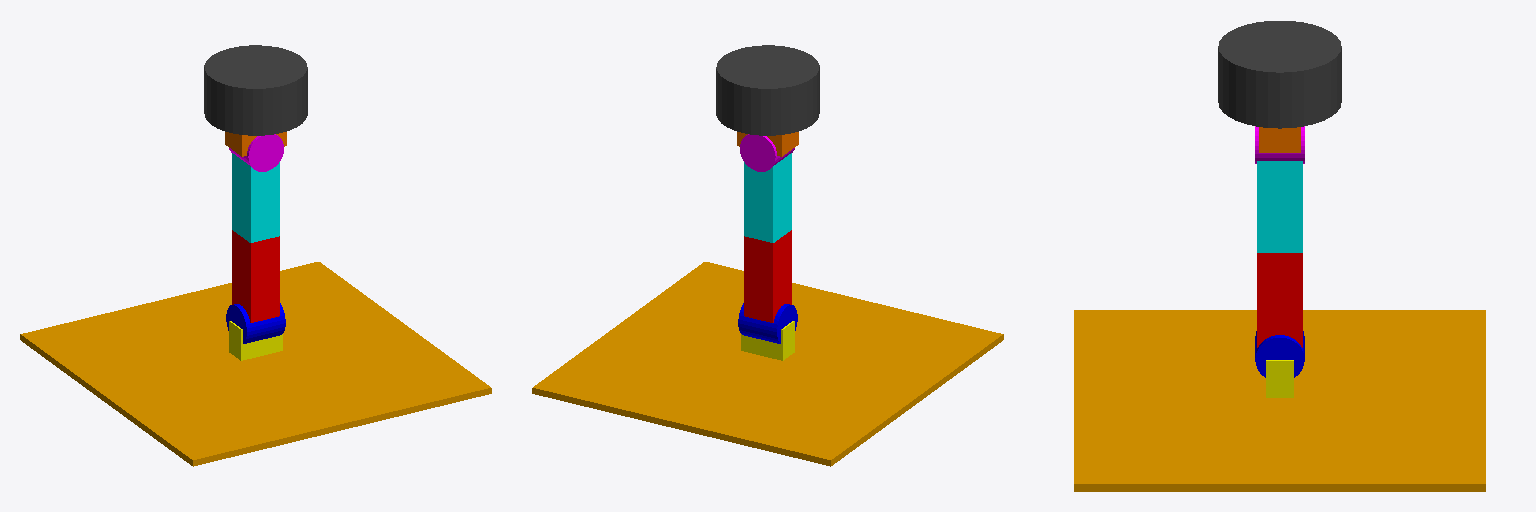
URDF robot description (6dof_huboq):
<?xml version="1.0" ?>
<!-- =================================================================================== -->
<!-- |    This document was autogenerated by xacro from ./6dof_huboq_simple.xacro      | -->
<!-- |    EDITING THIS FILE BY HAND IS NOT RECOMMENDED                                 | -->
<!-- =================================================================================== -->
<robot name="6dof_huboq" xmlns:xacro="http://ros.org/wiki/xacro">
  <!-- Include materials -->
  <material name="Black">
    <color rgba="0.0 0.0 0.0 1.0"/>
  </material>
  <material name="Red">
    <color rgba="0.8 0.0 0.0 1.0"/>
  </material>
  <material name="White">
    <color rgba="1.0 1.0 1.0 1.0"/>
  </material>
  <!-- BOTTOM FIXED LINK 
This link is the base of the arm in which arm is placed 
-->
  <!-- ///////////////////////////////////////////////////////////////////////////////////////////////////////////////////// -->
  <joint name="bottom_joint" type="fixed">
    <origin rpy="0 0 0" xyz="0 0 0"/>
    <parent link="base_link"/>
    <child link="bottom_link"/>
  </joint>
  <link name="bottom_link">
    <visual>
      <origin rpy="0 0 0" xyz=" 0 0 -0.04"/>
      <geometry>
        <box size="1 1 0.02"/>
      </geometry>
      <material name="Brown"/>
    </visual>
    <collision>
      <origin rpy="0 0 0" xyz=" 0 0 -0.04"/>
      <geometry>
        <box size="1 1 0.02"/>
      </geometry>
    </collision>
    &gt;
  
  </link>
  <gazebo reference="bottom_link">
    <material>Gazebo/White</material>
  </gazebo>
  <!-- ///////////////////////////////////////////////////////////////////////////////////////////////////////////////////// -->
  <link name="base_link">
    <visual>
      <geometry>
        <box size="0.14 0.07 0.1"/>
      </geometry>
      <origin rpy="0 0 0" xyz="0 0 0.05"/>
      <material name="yellow">
        <color rgba="1 1 0 1"/>
      </material>
    </visual>
    <collision>
      <geometry>
        <box size="0.14 0.07 0.1"/>
      </geometry>
      <origin rpy="0 0 0" xyz="0 0 0.05"/>
    </collision>
    <inertial>
      <mass value="1"/>
      <inertia ixx="0.5" ixy="0.0" ixz="0.0" iyy="0.5" iyz="0.0" izz="0.5"/>
    </inertial>
  </link>
  <joint name="HR_joint" type="revolute">
    <parent link="base_link"/>
    <child link="HR_link"/>
    <origin xyz="0 0 0.1"/>
    <axis xyz="1 0 0"/>
    <limit effort="300" lower="-0.698131700798" upper="0.698131700798" velocity="0.1"/>
    <dynamics damping="50" friction="1"/>
  </joint>
  <link name="HR_link">
    <visual>
      <geometry>
        <cylinder length="0.13" radius="0.06"/>
      </geometry>
      <origin rpy="0 1.570795 0" xyz="0 0 0"/>
      <material name="blue">
        <color rgba="0 0 1 1"/>
      </material>
    </visual>
    <collision>
      <geometry>
        <cylinder length="0.13" radius="0.06"/>
      </geometry>
      <origin rpy="0 1.570795 0" xyz="0 0 0"/>
    </collision>
    <inertial>
      <mass value="1"/>
      <inertia ixx="0.5" ixy="0.0" ixz="0.0" iyy="0.5" iyz="0.0" izz="0.5"/>
    </inertial>
  </link>
  <joint name="HP_joint" type="revolute">
    <parent link="HR_link"/>
    <child link="HP_link"/>
    <origin xyz="0 0 0"/>
    <axis xyz="0 1 0"/>
    <limit effort="300" lower="-1.3962634016" upper="1.3962634016" velocity="0.1"/>
    <dynamics damping="50" friction="1"/>
  </joint>
  <link name="HP_link">
    <visual>
      <geometry>
        <box size="0.1 0.11 0.28"/>
      </geometry>
      <origin rpy="0 0 0" xyz="0 0 0.14"/>
      <material name="red">
        <color rgba="1 0 0 1"/>
      </material>
    </visual>
    <collision>
      <geometry>
        <box size="0.1 0.11 0.28"/>
      </geometry>
      <origin rpy="0 0 0" xyz="0 0 0.14"/>
    </collision>
    <inertial>
      <mass value="1"/>
      <inertia ixx="0.5" ixy="0.0" ixz="0.0" iyy="0.5" iyz="0.0" izz="0.5"/>
    </inertial>
  </link>
  <joint name="Knee_joint" type="revolute">
    <parent link="HP_link"/>
    <child link="Knee_link"/>
    <origin xyz="0 0 0.28"/>
    <axis xyz="0 1 0"/>
    <limit effort="300" lower="-2.79252680319" upper="1.3962634016" velocity="0.1"/>
    <dynamics damping="50" friction="1"/>
  </joint>
  <link name="Knee_link">
    <visual>
      <geometry>
        <box size="0.1 0.11 0.28"/>
      </geometry>
      <origin rpy="0 0 0" xyz="0 0 0.14"/>
      <material name="cyon">
        <color rgba="0 1 1 1"/>
      </material>
    </visual>
    <collision>
      <geometry>
        <box size="0.1 0.11 0.28"/>
      </geometry>
      <origin rpy="0 0 0" xyz="0 0 0.14"/>
    </collision>
    <inertial>
      <mass value="1"/>
      <inertia ixx="0.5" ixy="0.0" ixz="0.0" iyy="0.5" iyz="0.0" izz="0.5"/>
    </inertial>
  </link>
  <joint name="AP_joint" type="revolute">
    <parent link="Knee_link"/>
    <child link="AP_link"/>
    <origin xyz="0 0 0.28"/>
    <axis xyz="0 1 0"/>
    <limit effort="300" lower="-1.57079632679" upper="1.57079632679" velocity="0.1"/>
    <dynamics damping="50" friction="1"/>
  </joint>
  <link name="AP_link">
    <visual>
      <geometry>
        <cylinder length="0.12" radius="0.06"/>
      </geometry>
      <origin rpy="1.570795 0 0" xyz="0 0 0"/>
      <material name="Magenta">
        <color rgba="1 0 1 1"/>
      </material>
    </visual>
    <collision>
      <geometry>
        <cylinder length="0.12" radius="0.06"/>
      </geometry>
      <origin rpy="1.570795 0 0" xyz="0 0 0"/>
    </collision>
    <inertial>
      <mass value="1"/>
      <inertia ixx="0.5" ixy="0.0" ixz="0.0" iyy="0.5" iyz="0.0" izz="0.5"/>
    </inertial>
  </link>
  <joint name="AR_joint" type="revolute">
    <parent link="AP_link"/>
    <child link="AR_link"/>
    <origin xyz="0 0 0"/>
    <axis xyz="1 0 0"/>
    <limit effort="300" lower="-1.3962634016" upper="1.3962634016" velocity="0.1"/>
    <dynamics damping="50" friction="1"/>
  </joint>
  <link name="AR_link">
    <visual>
      <geometry>
        <box size="0.15 0.1 0.175"/>
      </geometry>
      <origin rpy="0 0 0" xyz="0 0 0.0875"/>
      <material name="orange">
        <color rgba="1 0.5 0 1"/>
      </material>
    </visual>
    <collision>
      <geometry>
        <box size="0.15 0.1 0.175"/>
      </geometry>
      <origin rpy="0 0 0" xyz="0 0 0.0875"/>
    </collision>
    <inertial>
      <mass value="1"/>
      <inertia ixx="0.5" ixy="0.0" ixz="0.0" iyy="0.5" iyz="0.0" izz="0.5"/>
    </inertial>
  </link>
  <joint name="AY_joint" type="revolute">
    <parent link="AR_link"/>
    <child link="AY_link"/>
    <origin xyz="0 0 0.175"/>
    <axis xyz="0 0 1"/>
    <limit effort="300" lower="-3.14" upper="3.14" velocity="0.1"/>
    <dynamics damping="50" friction="1"/>
  </joint>
  <link name="AY_link">
    <visual>
      <geometry>
        <cylinder length="0.15" radius="0.15"/>
      </geometry>
      <origin rpy="0 0 0" xyz="0 0 0"/>
      <material name="Gray">
        <color rgba="0.3 0.3 0.3 1"/>
      </material>
    </visual>
    <collision>
      <geometry>
        <cylinder length="0.15" radius="0.15"/>
      </geometry>
      <origin rpy="0 0 0" xyz="0 0 0"/>
    </collision>
    <inertial>
      <mass value="1"/>
      <inertia ixx="0.5" ixy="0.0" ixz="0.0" iyy="0.5" iyz="0.0" izz="0.5"/>
    </inertial>
  </link>
  <!-- ///////////////////////////////////////////////////////////////////////////////////////////////////////////////////// -->
  <!-- Transmissions for ROS Control -->
  <transmission name="tran1">
    <type>transmission_interface/SimpleTransmission</type>
    <joint name="HR_joint">
      <hardwareInterface>hardware_interface/PositionJointInterface</hardwareInterface>
    </joint>
    <actuator name="motor1">
      <hardwareInterface>hardware_interface/PositionJointInterface</hardwareInterface>
      <mechanicalReduction>1</mechanicalReduction>
    </actuator>
  </transmission>
  <transmission name="tran1">
    <type>transmission_interface/SimpleTransmission</type>
    <joint name="HP_joint">
      <hardwareInterface>hardware_interface/PositionJointInterface</hardwareInterface>
    </joint>
    <actuator name="motor1">
      <hardwareInterface>hardware_interface/PositionJointInterface</hardwareInterface>
      <mechanicalReduction>1</mechanicalReduction>
    </actuator>
  </transmission>
  <transmission name="tran1">
    <type>transmission_interface/SimpleTransmission</type>
    <joint name="Knee_joint">
      <hardwareInterface>hardware_interface/PositionJointInterface</hardwareInterface>
    </joint>
    <actuator name="motor1">
      <hardwareInterface>hardware_interface/PositionJointInterface</hardwareInterface>
      <mechanicalReduction>1</mechanicalReduction>
    </actuator>
  </transmission>
  <transmission name="tran1">
    <type>transmission_interface/SimpleTransmission</type>
    <joint name="AP_joint">
      <hardwareInterface>hardware_interface/PositionJointInterface</hardwareInterface>
    </joint>
    <actuator name="motor1">
      <hardwareInterface>hardware_interface/PositionJointInterface</hardwareInterface>
      <mechanicalReduction>1</mechanicalReduction>
    </actuator>
  </transmission>
  <transmission name="tran1">
    <type>transmission_interface/SimpleTransmission</type>
    <joint name="AR_joint">
      <hardwareInterface>hardware_interface/PositionJointInterface</hardwareInterface>
    </joint>
    <actuator name="motor1">
      <hardwareInterface>hardware_interface/PositionJointInterface</hardwareInterface>
      <mechanicalReduction>1</mechanicalReduction>
    </actuator>
  </transmission>
  <transmission name="tran1">
    <type>transmission_interface/SimpleTransmission</type>
    <joint name="AY_joint">
      <hardwareInterface>hardware_interface/PositionJointInterface</hardwareInterface>
    </joint>
    <actuator name="motor1">
      <hardwareInterface>hardware_interface/PositionJointInterface</hardwareInterface>
      <mechanicalReduction>1</mechanicalReduction>
    </actuator>
  </transmission>
  <!-- ros_control plugin -->
  <gazebo>
    <plugin filename="libgazebo_ros_control.so" name="gazebo_ros_control">
      <robotNamespace>/6dof_huboq</robotNamespace>
    </plugin>
  </gazebo>
</robot>

--- Facts derived from the render (not from the file) ---
Views: 3 orthographic renders of the robot side by side, from view 1: azimuth 30°, elevation 25°; view 2: azimuth 150°, elevation 25°; view 3: azimuth 270°, elevation 25°.
Model 6dof_huboq with 8 links and 7 joints (6 revolute, 1 fixed), rooted at base_link, posed every joint at zero.
Visible links, largest first — view 1: bottom_link, AY_link, HP_link, Knee_link, HR_link, AP_link, base_link, AR_link; view 2: bottom_link, AY_link, HP_link, Knee_link, HR_link, AP_link, base_link, AR_link; view 3: bottom_link, AY_link, Knee_link, HP_link, HR_link, base_link, AR_link, AP_link.
Link boxes in pixels (x1=…): bottom_link: x1=20, y1=262, x2=491, y2=466; AY_link: x1=204, y1=45, x2=307, y2=135; HP_link: x1=232, y1=230, x2=279, y2=322; Knee_link: x1=232, y1=153, x2=279, y2=242; HR_link: x1=226, y1=303, x2=285, y2=343; AP_link: x1=229, y1=134, x2=283, y2=171; base_link: x1=229, y1=321, x2=282, y2=360; AR_link: x1=225, y1=132, x2=286, y2=156; bottom_link: x1=532, y1=262, x2=1003, y2=466; AY_link: x1=716, y1=45, x2=819, y2=135; HP_link: x1=744, y1=230, x2=791, y2=322; Knee_link: x1=744, y1=153, x2=791, y2=242; HR_link: x1=738, y1=303, x2=797, y2=343; AP_link: x1=740, y1=134, x2=794, y2=171; base_link: x1=741, y1=321, x2=794, y2=360; AR_link: x1=737, y1=132, x2=798, y2=156; bottom_link: x1=1074, y1=310, x2=1485, y2=491; AY_link: x1=1218, y1=21, x2=1341, y2=128; Knee_link: x1=1257, y1=161, x2=1302, y2=252; HP_link: x1=1257, y1=253, x2=1302, y2=347; HR_link: x1=1255, y1=331, x2=1304, y2=377; base_link: x1=1266, y1=360, x2=1293, y2=397; AR_link: x1=1259, y1=127, x2=1300, y2=152; AP_link: x1=1255, y1=126, x2=1304, y2=163.
Size in the robot's own frame: 1 by 1 by 0.96 metres.
Geometry: primitives only (box / cylinder / sphere), no mesh files.